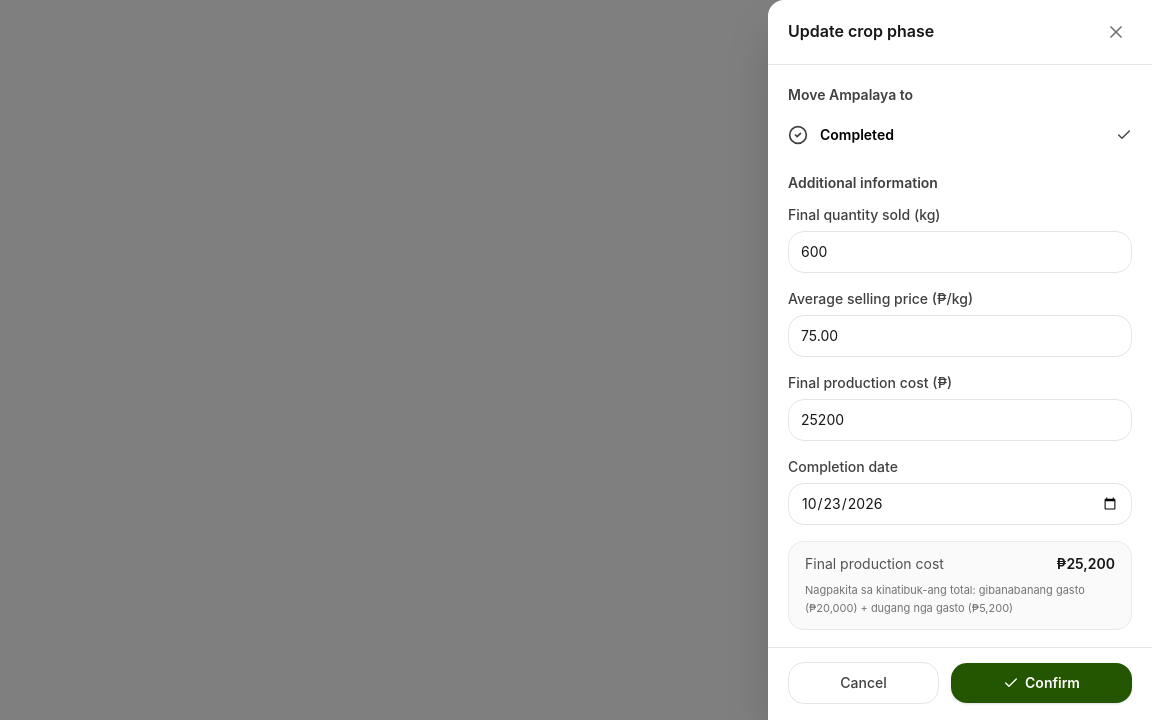
Test case: Crop Cycle Completion Stage — Actual Production & Sales Data › calculates revenue, profit/loss dynamically when entering actual sales data
// Enter actual sales data: 560 kg at ₱78/kg
Replace the text in the number field labelled "Final quantity sold (kg)" with "560": (960, 252) [788, 231, 1132, 273]
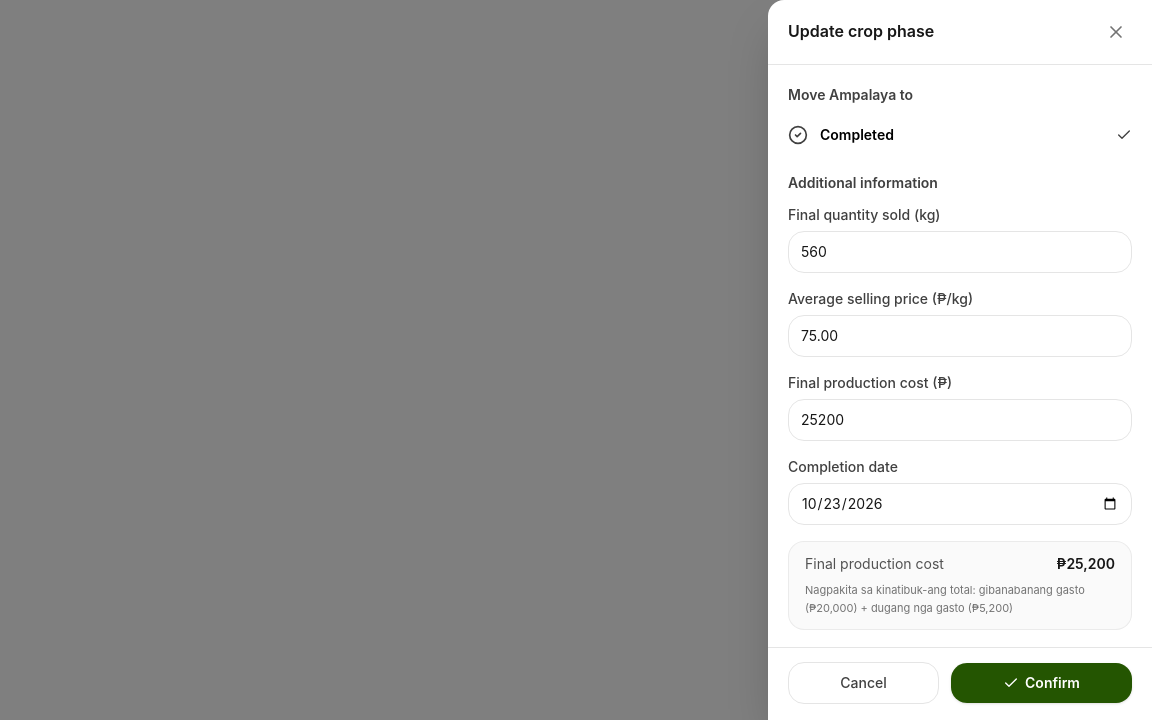
Replace the text in the number field labelled "Average selling price (₱/kg)" with "78": (960, 336) [788, 315, 1132, 357]
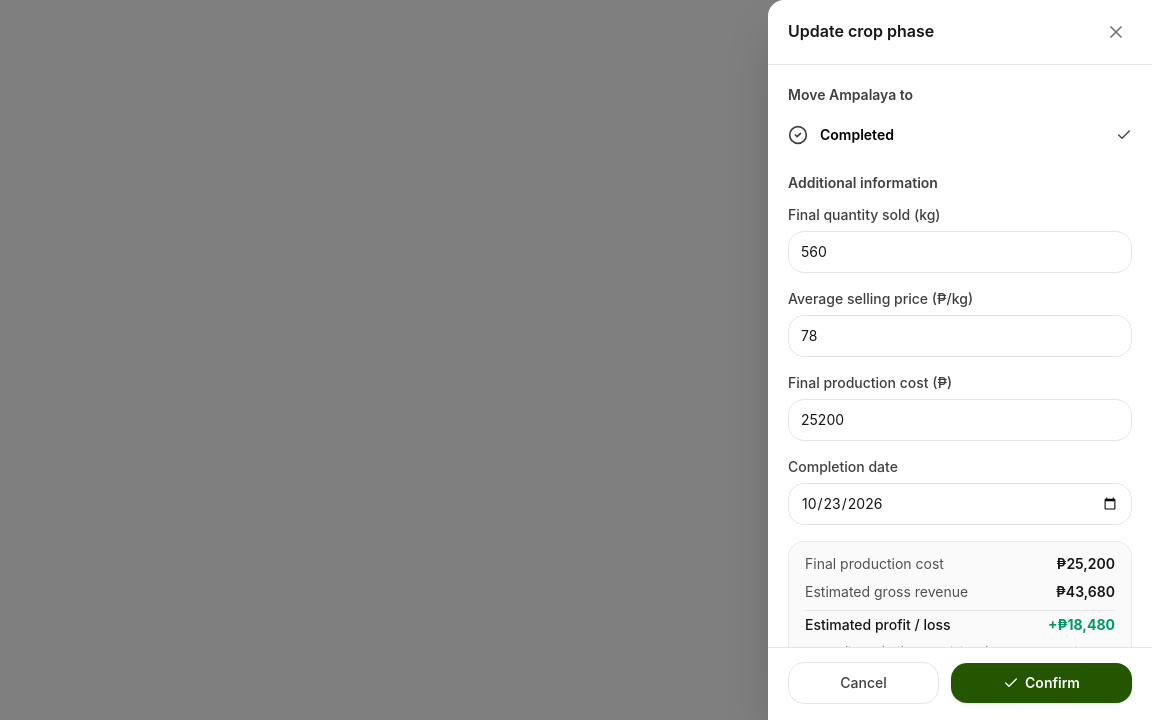
Check: the text "₱43,680" is shown, box [1056, 582, 1115, 602]
Check: the text "+₱18,480" is shown, box [1048, 615, 1115, 635]
